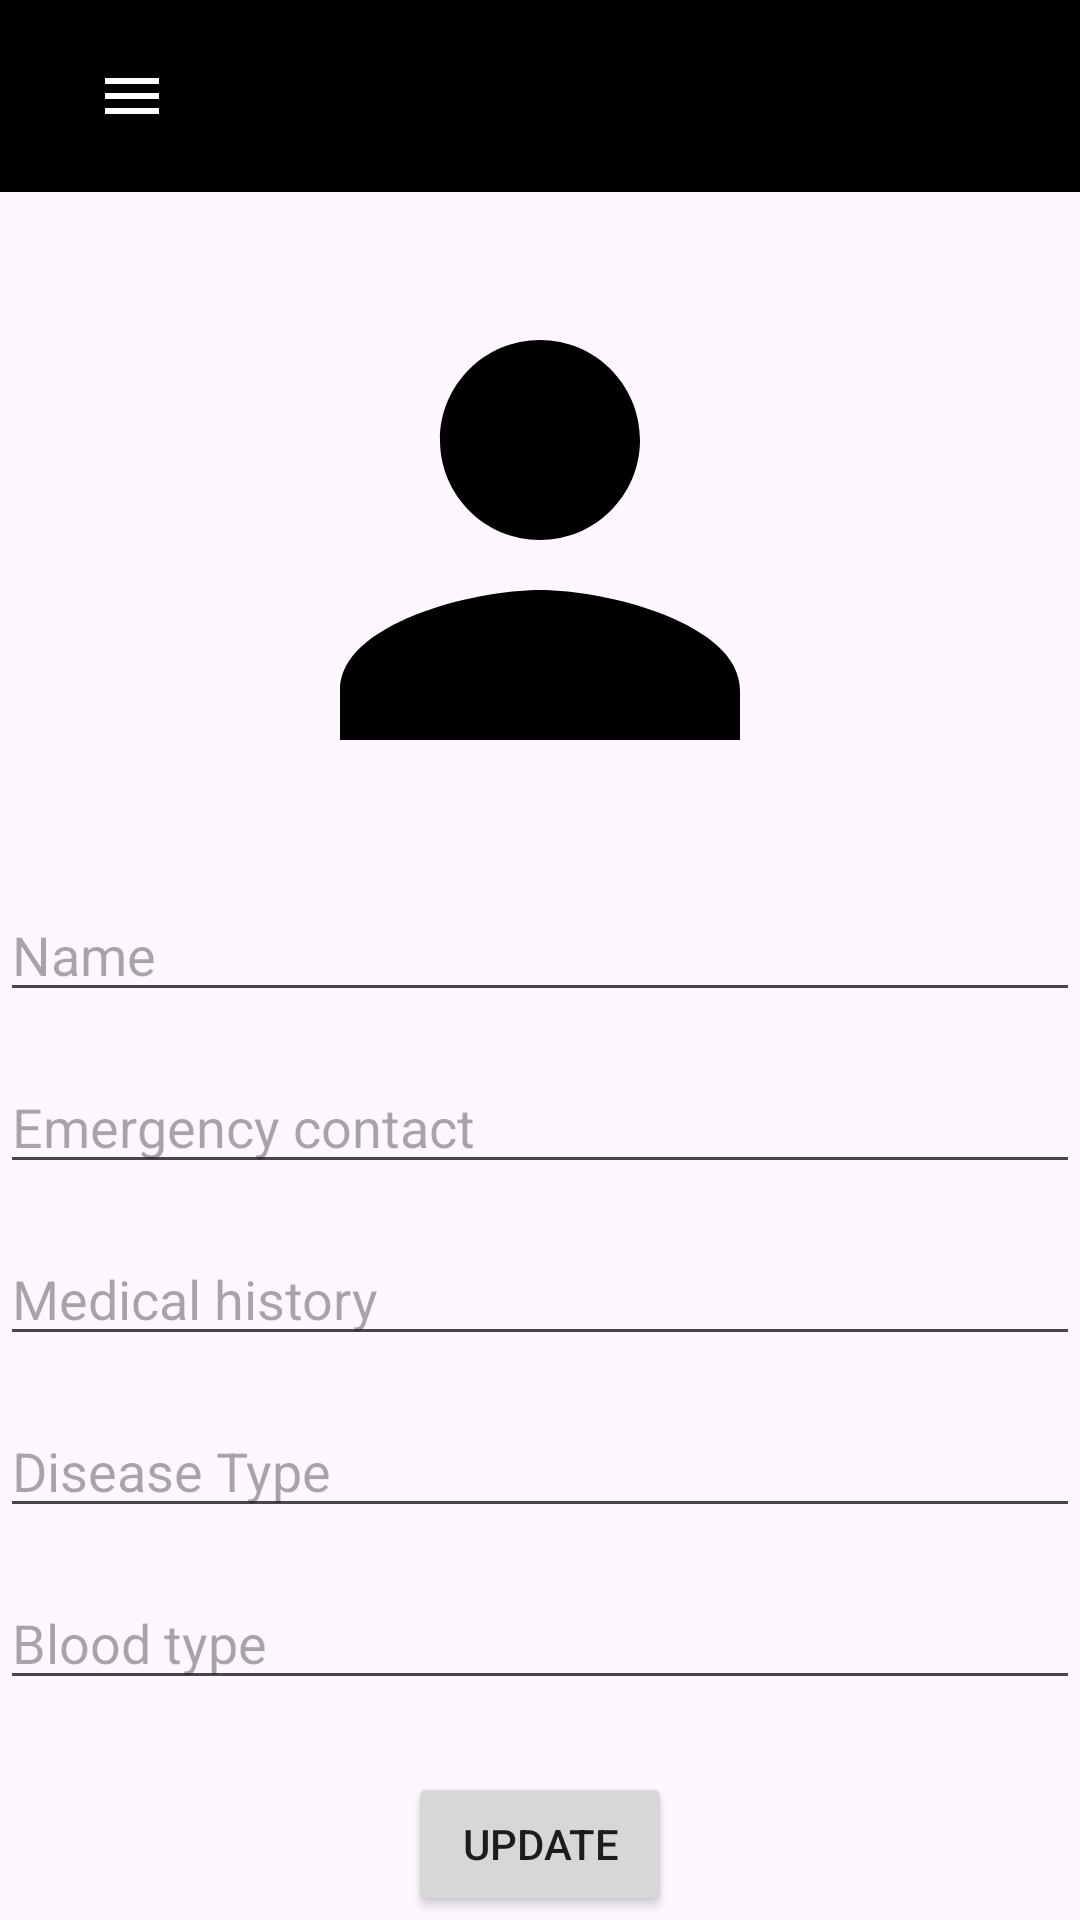

Where icons sit on this 1080 x 1920 app screen, as (x1, y1, x2, y2):
Menu: (105, 78, 159, 114)
